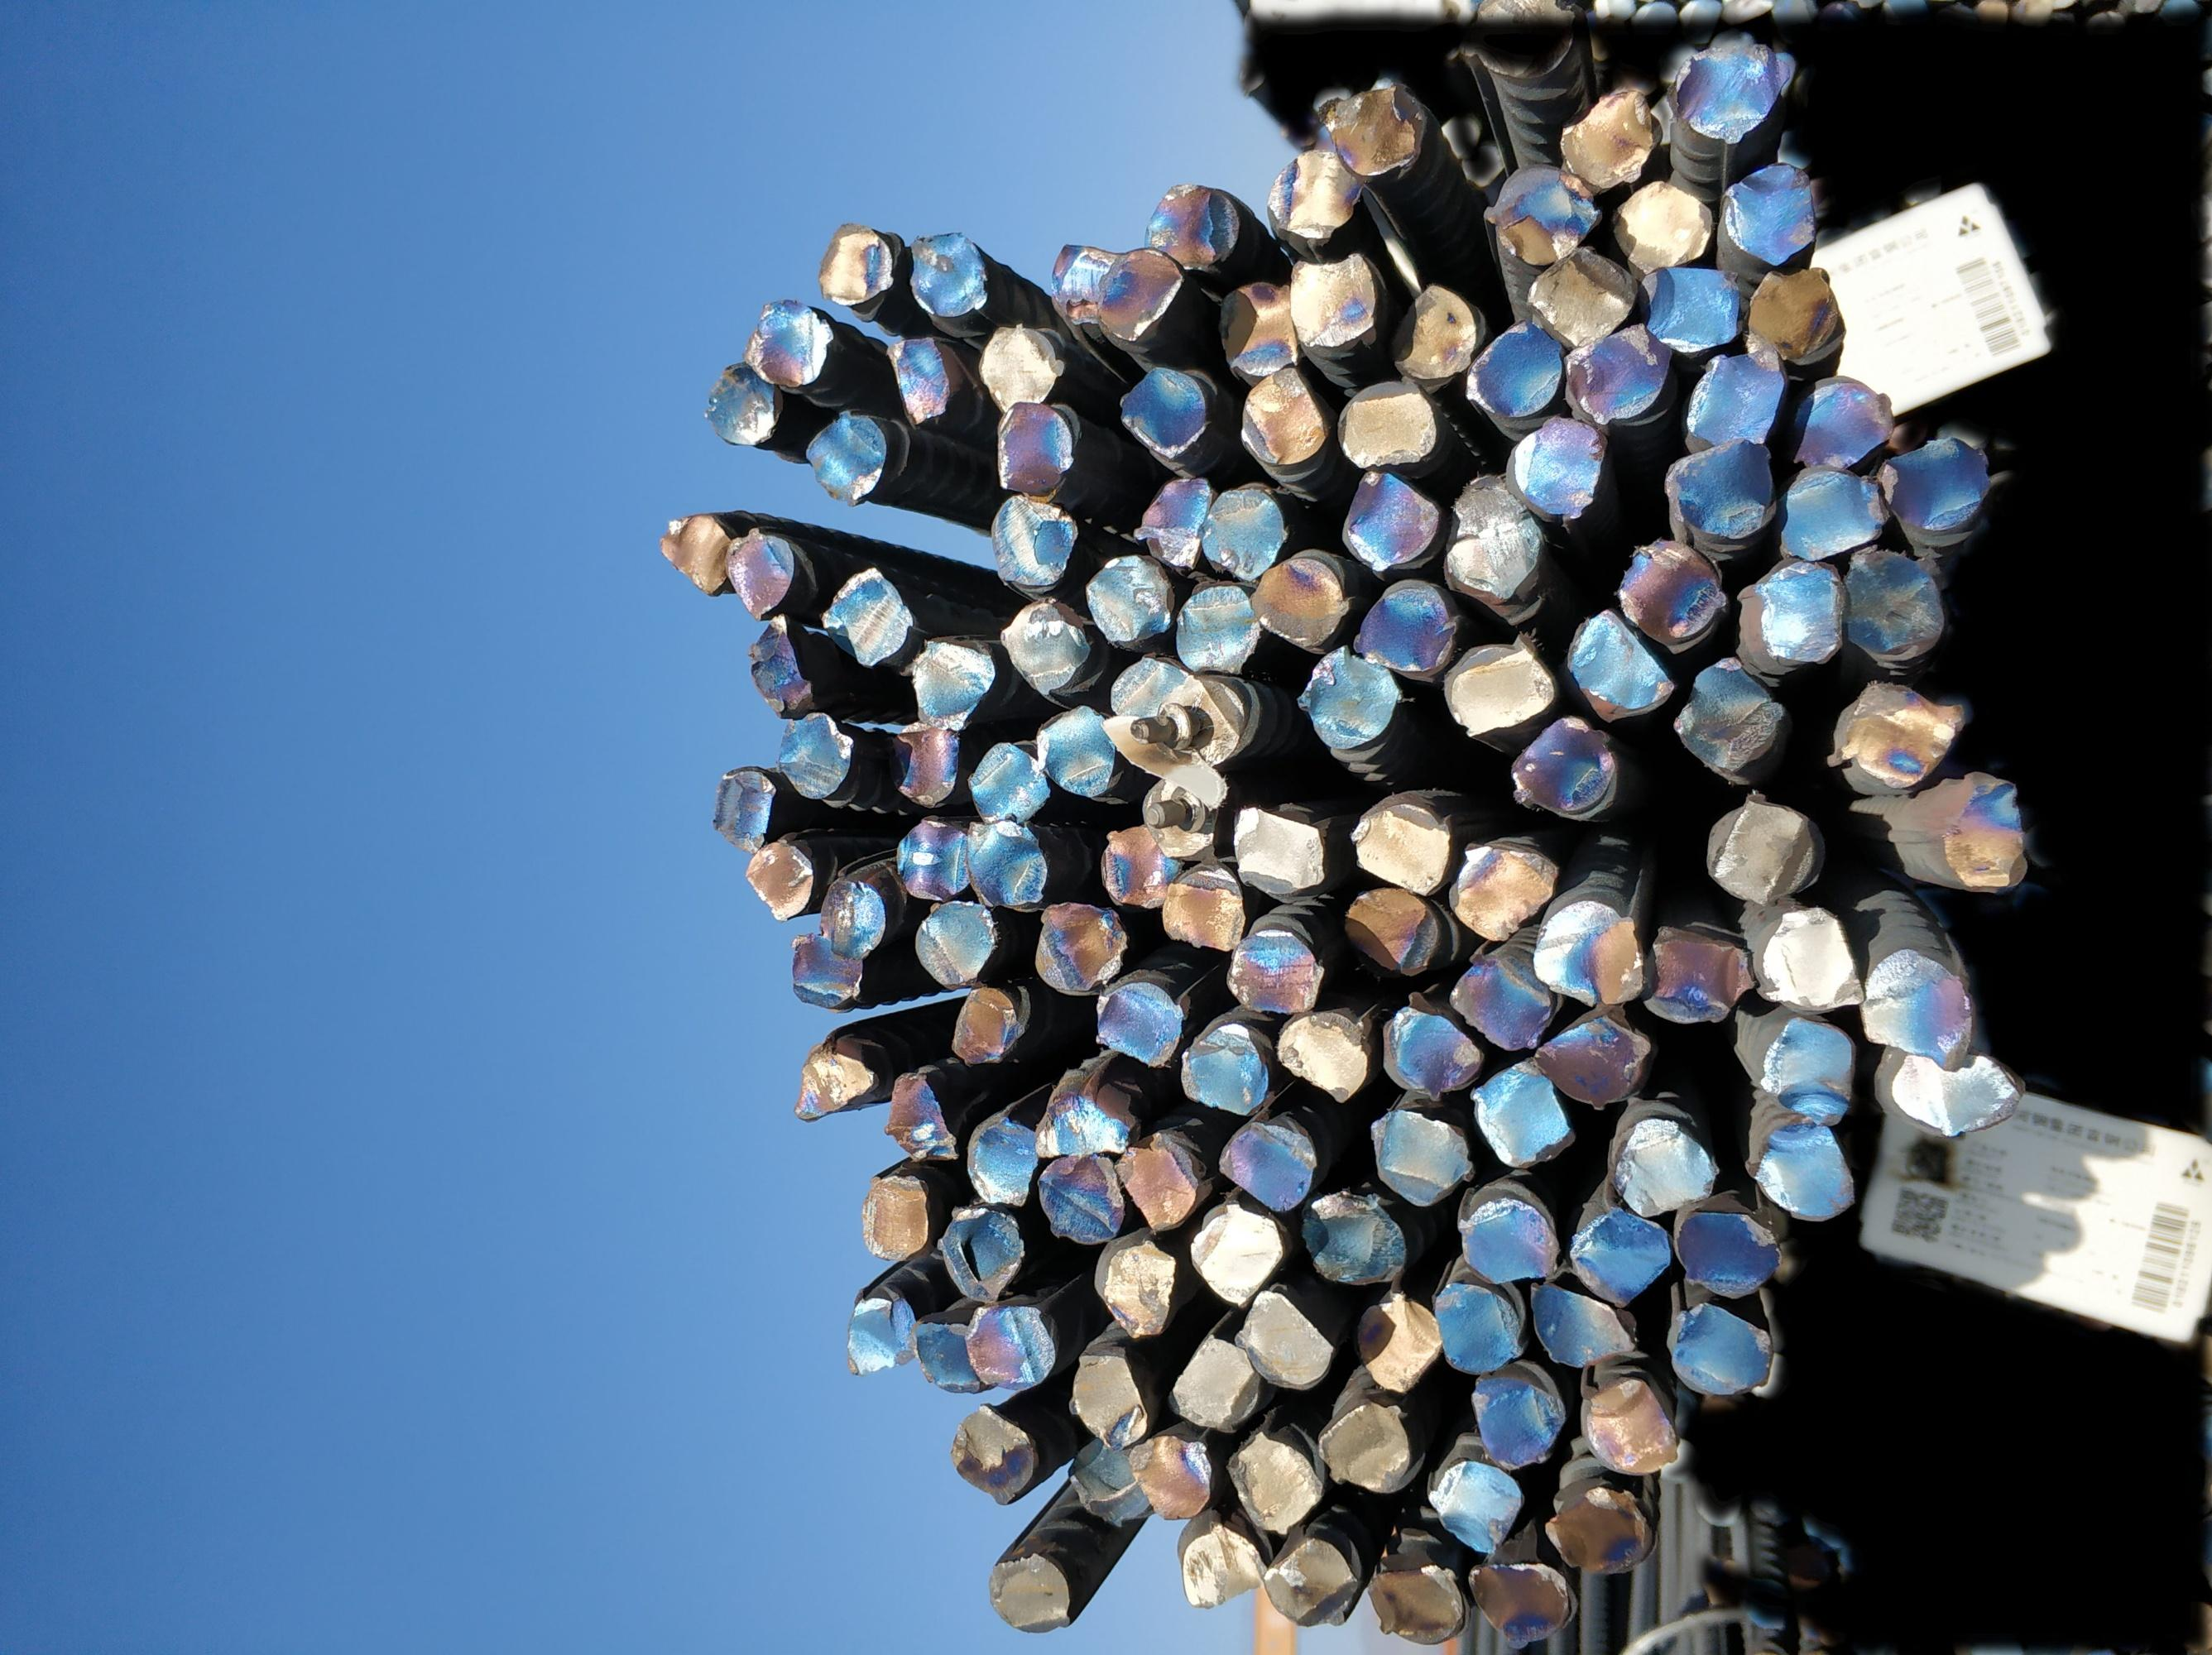bar: (1837, 673, 1969, 788), (1856, 946, 1976, 1069), (1665, 38, 1798, 148), (1670, 654, 1788, 777), (1871, 1045, 2023, 1137), (1613, 528, 1725, 648), (1463, 1053, 1576, 1172), (1444, 471, 1545, 603), (1838, 544, 1948, 664), (1531, 894, 1647, 1005), (1480, 160, 1602, 266), (1564, 603, 1673, 718), (1637, 921, 1755, 1027), (1706, 789, 1814, 902), (1501, 715, 1614, 822), (1361, 1104, 1477, 1206), (1758, 1008, 1861, 1125), (1753, 906, 1864, 1012), (1533, 1014, 1651, 1111), (1321, 80, 1427, 188), (1444, 838, 1555, 940), (1348, 577, 1460, 680), (1786, 376, 1897, 478), (1715, 160, 1821, 266), (1446, 640, 1557, 741), (1665, 436, 1776, 537), (1753, 1120, 1861, 1222), (1446, 951, 1553, 1053), (1878, 433, 1991, 530), (1941, 775, 2035, 892), (1680, 344, 1786, 447), (1609, 1120, 1719, 1219), (1569, 1203, 1670, 1309), (1227, 1427, 1326, 1535), (1296, 641, 1395, 749), (1527, 245, 1635, 344), (1776, 466, 1889, 560), (1340, 466, 1440, 570), (1215, 1116, 1321, 1215), (1510, 414, 1611, 516), (1138, 176, 1244, 273), (1189, 1201, 1284, 1309), (1265, 146, 1366, 247), (1314, 1396, 1416, 1495), (1670, 1300, 1776, 1396), (1456, 1189, 1562, 1285), (1334, 377, 1442, 471), (985, 490, 1084, 591), (1300, 1189, 1401, 1288), (1576, 1377, 1679, 1474), (1752, 558, 1847, 662), (1543, 1485, 1651, 1577), (1529, 1281, 1637, 1373), (818, 567, 916, 668), (1555, 82, 1652, 183), (1272, 1007, 1374, 1102), (1745, 264, 1847, 360), (1354, 1295, 1446, 1401), (1232, 1286, 1329, 1386), (1567, 323, 1666, 421), (1380, 1001, 1480, 1097), (1246, 555, 1347, 650), (1164, 1332, 1258, 1434), (1679, 1205, 1781, 1299), (1465, 1556, 1569, 1648), (1027, 1066, 1133, 1156), (1388, 276, 1479, 382), (1465, 320, 1562, 417), (1427, 1457, 1522, 1556), (798, 405, 890, 508), (1472, 1366, 1564, 1469), (1093, 240, 1183, 344), (1235, 367, 1326, 471), (949, 1399, 1037, 1505), (1230, 798, 1326, 895), (1340, 881, 1435, 979), (1116, 362, 1209, 461), (935, 1205, 1029, 1304), (1213, 276, 1301, 381), (1030, 1147, 1126, 1243), (1614, 174, 1710, 269), (1112, 1133, 1204, 1233), (1350, 801, 1449, 894), (1288, 254, 1380, 353), (742, 608, 824, 720), (1640, 264, 1745, 351), (1430, 1278, 1524, 1373), (1065, 1346, 1150, 1450), (1176, 1022, 1270, 1116), (961, 814, 1051, 911), (1089, 980, 1187, 1071), (997, 595, 1086, 694), (1032, 697, 1119, 798), (1195, 483, 1288, 577), (1262, 1535, 1354, 1629), (990, 398, 1077, 495), (1156, 854, 1242, 951), (1364, 1563, 1467, 1645), (1176, 1521, 1268, 1612), (912, 894, 1001, 987), (907, 636, 994, 732), (1225, 930, 1324, 1014), (1030, 897, 1121, 987), (904, 224, 992, 316), (985, 1549, 1077, 1638), (977, 322, 1063, 415), (1129, 475, 1216, 568), (1067, 1432, 1152, 1528), (1084, 549, 1168, 647), (1096, 1236, 1176, 1337), (1157, 671, 1246, 761), (742, 299, 831, 388), (966, 1302, 1055, 1391), (817, 214, 900, 308), (1173, 579, 1255, 675), (1131, 1424, 1213, 1519), (697, 360, 785, 447), (772, 709, 857, 800), (1136, 770, 1220, 861), (1046, 235, 1123, 330), (725, 525, 801, 621), (891, 812, 975, 899), (966, 1107, 1037, 1208), (839, 1285, 916, 1379), (791, 1041, 878, 1123), (1096, 822, 1176, 911), (881, 1069, 957, 1161), (966, 739, 1050, 822), (883, 334, 957, 426), (709, 763, 784, 855), (744, 834, 817, 928), (886, 718, 961, 808), (857, 1172, 930, 1260), (912, 1314, 987, 1398), (659, 513, 732, 598), (789, 928, 864, 1010), (815, 873, 884, 956), (949, 984, 1018, 1066), (1105, 654, 1194, 711)
